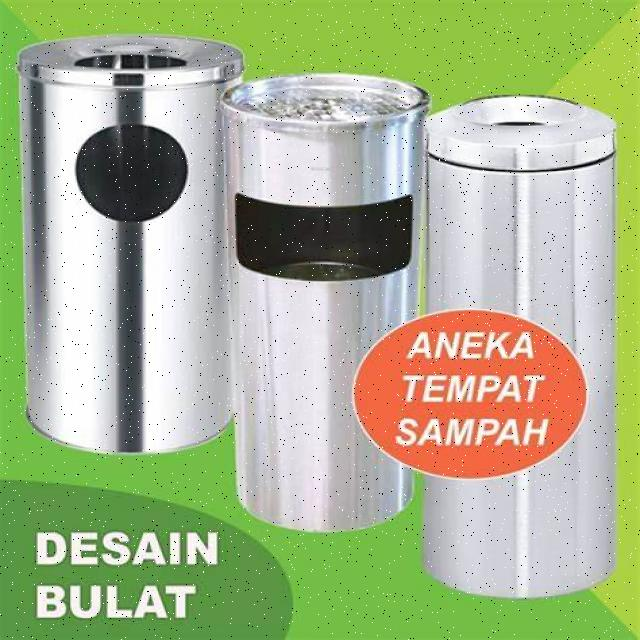garbage container: (14, 22, 242, 478), (431, 92, 628, 598), (225, 74, 432, 526)
